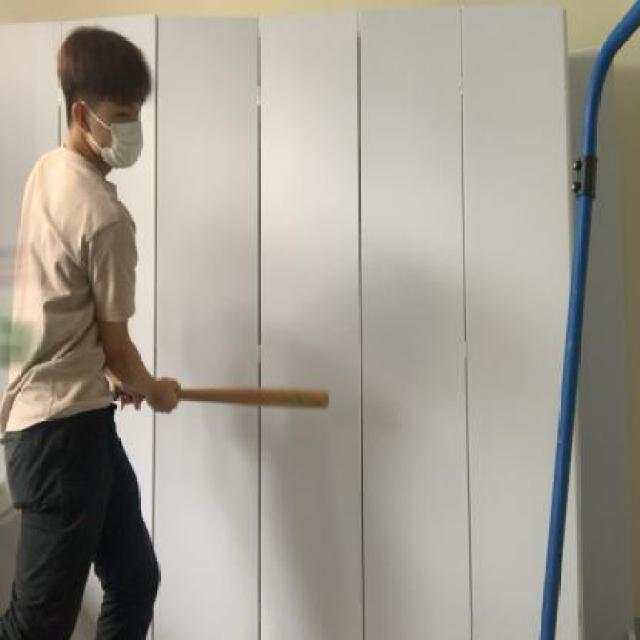baseball: (0, 312, 38, 376)
